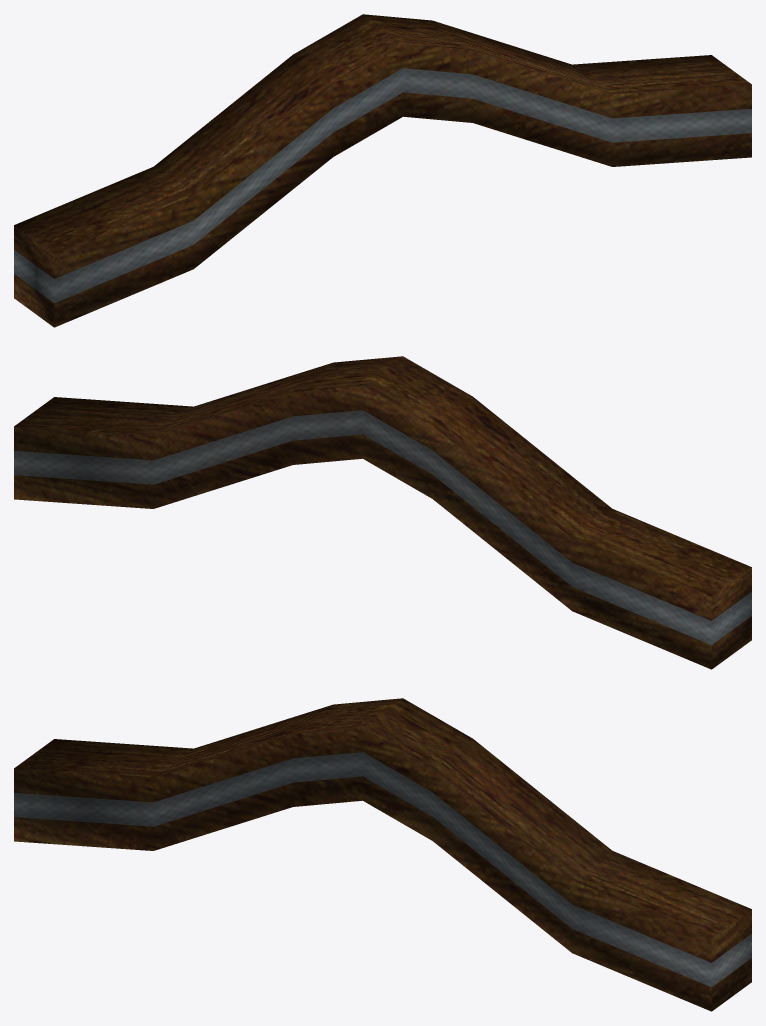
Rendered from CurvedWoodSteelBeam.glb.
3 renders of one model, top to bottom at view 1: azimuth 30°, elevation 25°; view 2: azimuth 150°, elevation 25°; view 3: azimuth 330°, elevation 25°, orthographic.
Visible parts, largest first — view 1: Cube; view 2: Cube; view 3: Cube.
Part boxes in pixels (x1,y1,x2,y2): Cube: (14,14,751,327); Cube: (14,356,751,669); Cube: (14,698,751,1011).
Bounding box in the file's own units: 6 × 1.63 × 0.6.
2 materials, 2 textured.
